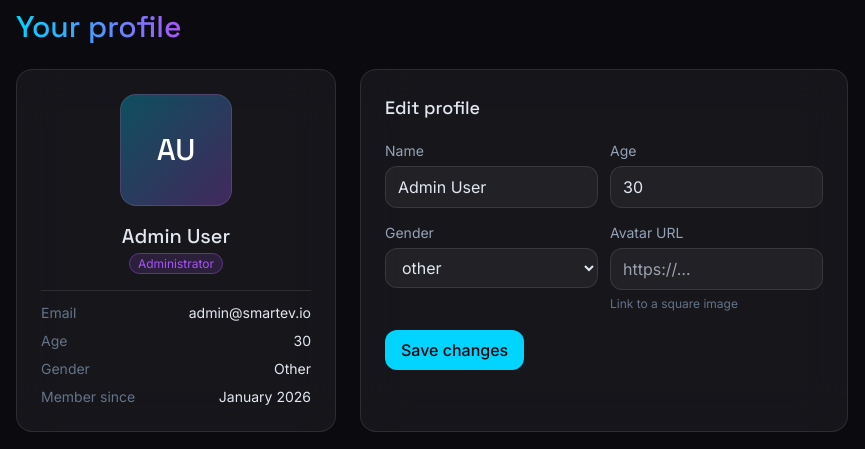
it: Profile page › surfaces an error when the save fails
Expected: the field labelled "Name" holds "Admin User", [385,166,598,208]
Click the button "Save changes" at (455, 350), box [385,330,524,370]
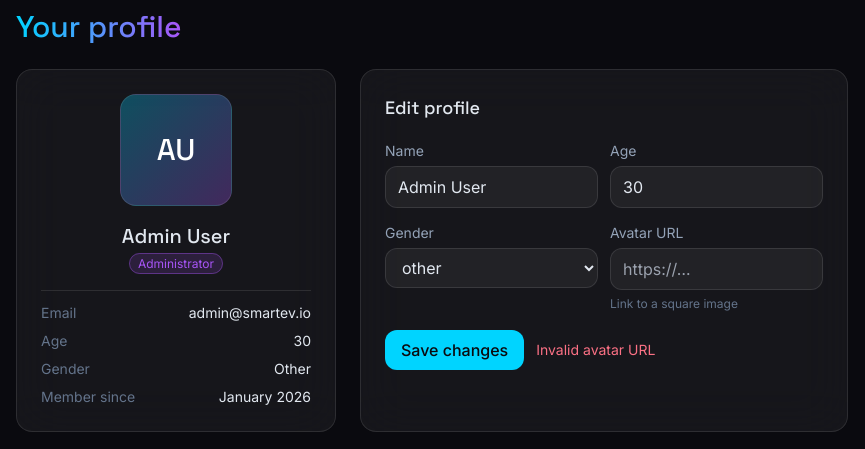
Now the message reads "Invalid avatar URL", box [536,341,655,358]
